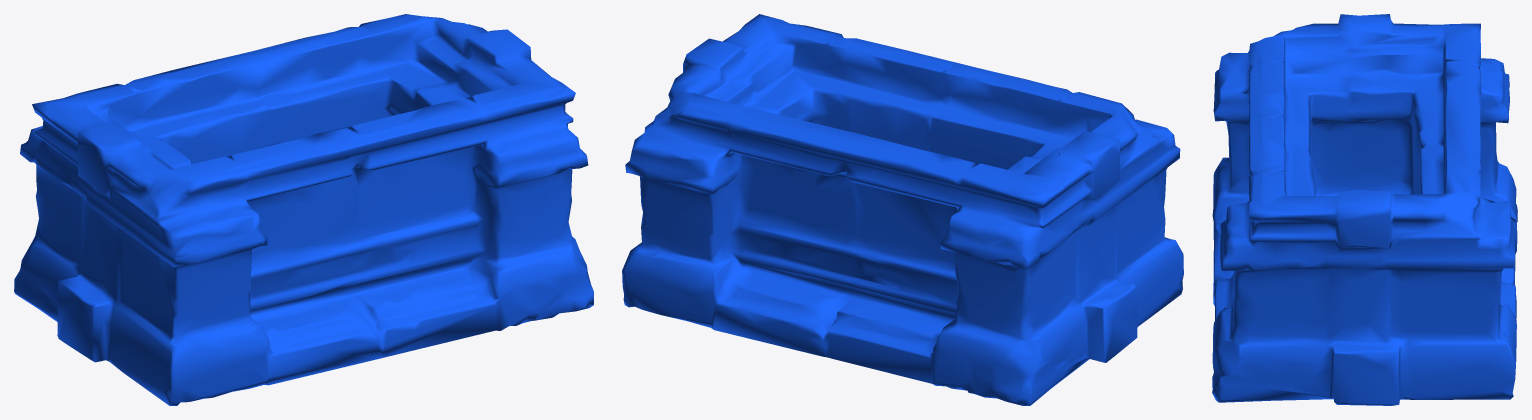
The model's file is MDungeon_TombBase_01.FBX.
3 views of the same model, side by side, from view 1: azimuth 30°, elevation 25°; view 2: azimuth 150°, elevation 25°; view 3: azimuth 270°, elevation 25° (orthographic). The views are drawn at different scales.
Visible parts, largest first — view 1: MDungeon_TombBase_01_LOD0; view 2: MDungeon_TombBase_01_LOD0; view 3: MDungeon_TombBase_01_LOD0.
Boxes of the visible parts, bbox=[...] form: MDungeon_TombBase_01_LOD0: bbox=[14, 14, 593, 405]; MDungeon_TombBase_01_LOD0: bbox=[622, 14, 1183, 405]; MDungeon_TombBase_01_LOD0: bbox=[1212, 14, 1517, 405].
Size of what is drawn, in the model's own units: 3.41 by 1.51 by 2.13.
